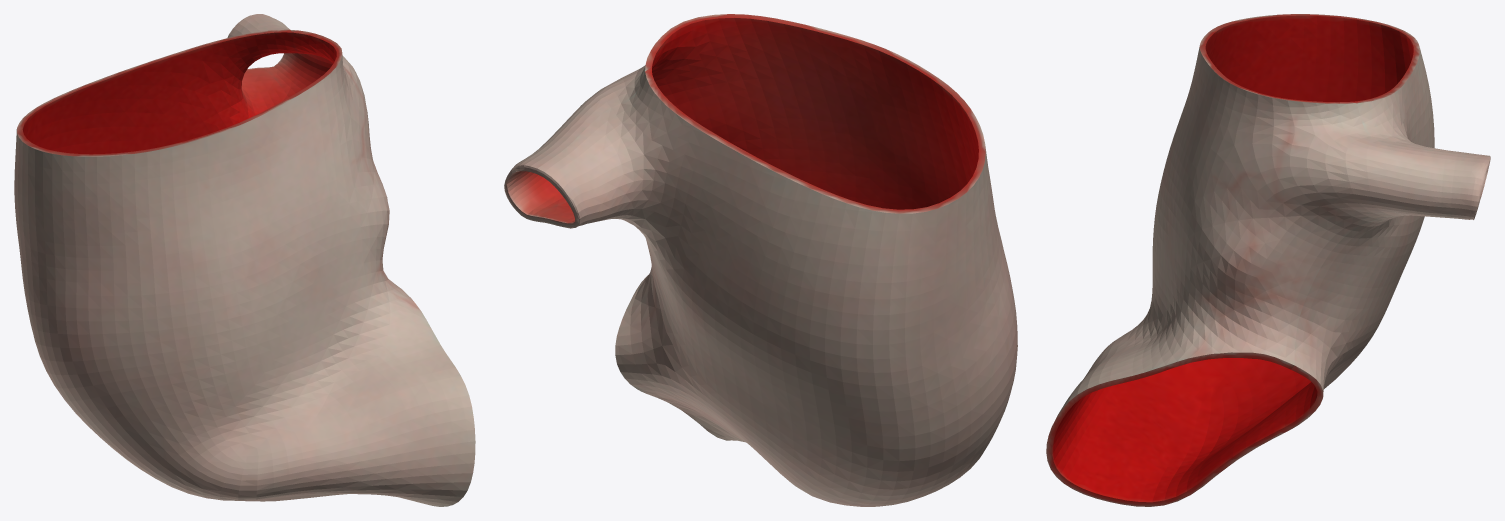
Rendered from stom_cardia_LP.glb.
3 renders of one model, left to right at view 1: azimuth 30°, elevation 25°; view 2: azimuth 150°, elevation 25°; view 3: azimuth 270°, elevation 25°, orthographic. The views are drawn at different scales.
Visible parts, largest first — view 1: stom_cardia_LP; view 2: stom_cardia_LP; view 3: stom_cardia_LP.
Boxes of the visible parts, <box> form: stom_cardia_LP: <box>14,14,475,506</box>; stom_cardia_LP: <box>504,14,1017,506</box>; stom_cardia_LP: <box>1046,14,1490,506</box>.
Size of the model in its own units: 0.00161 by 0.00187 by 0.00186.
1 material, 1 textured.
